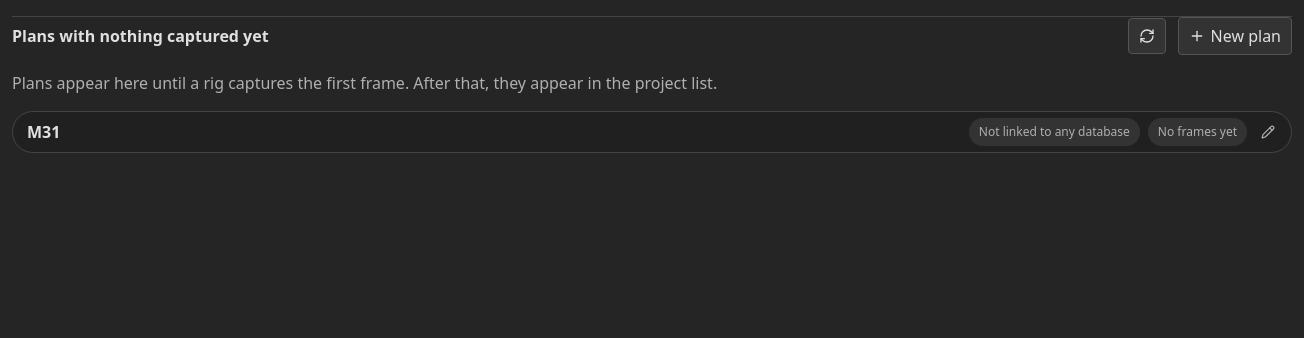
Test: The Library's plans with nothing captured yet › keeps a stale rename draft until canceled and reloads the current revision
This screenshot has width=1304, height=338.
Click the button named "Rename M31" at [1268, 132], box [1255, 119, 1281, 145]
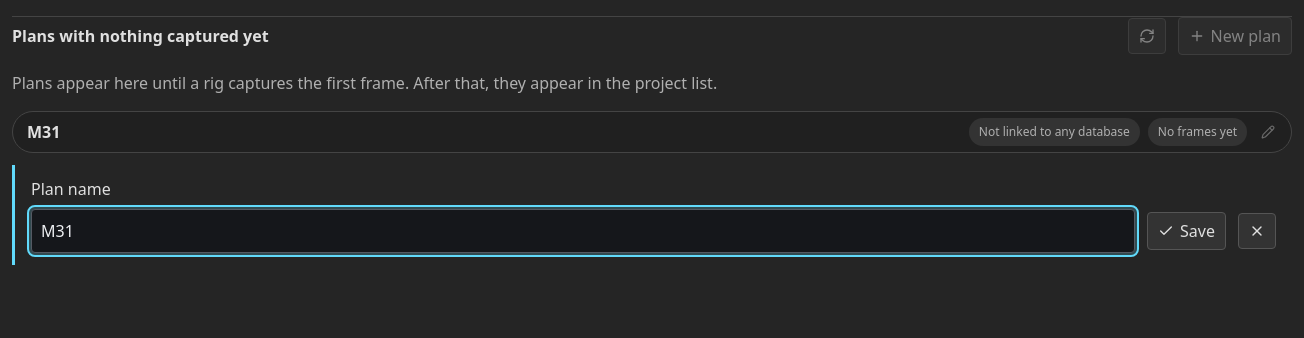
Replace the text in the field labelled "Plan name" with "Andromeda" at [583, 231], box [31, 209, 1135, 253]
Click the button "Save" at [1187, 231], box [1147, 212, 1226, 250]
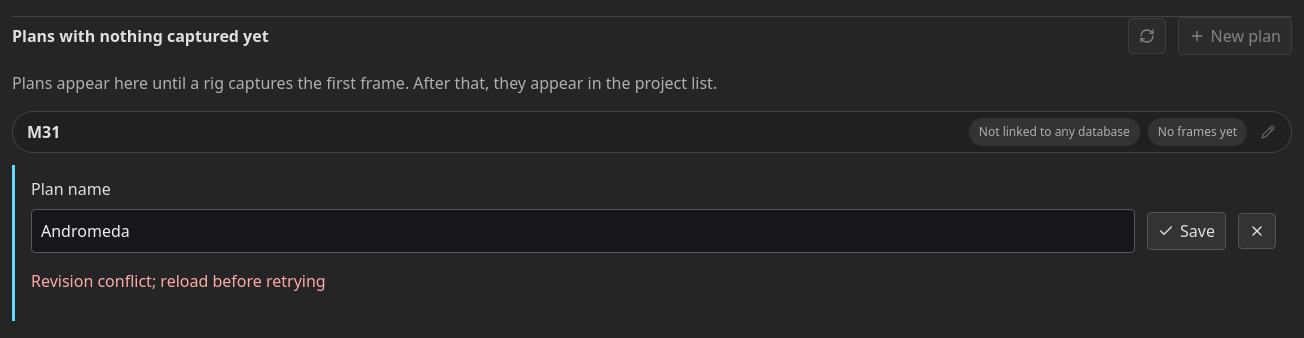
Expected: the message shows "Revision conflict", [31, 270, 326, 292]
Click the button named "Cancel" at [1257, 231], box [1238, 213, 1276, 249]
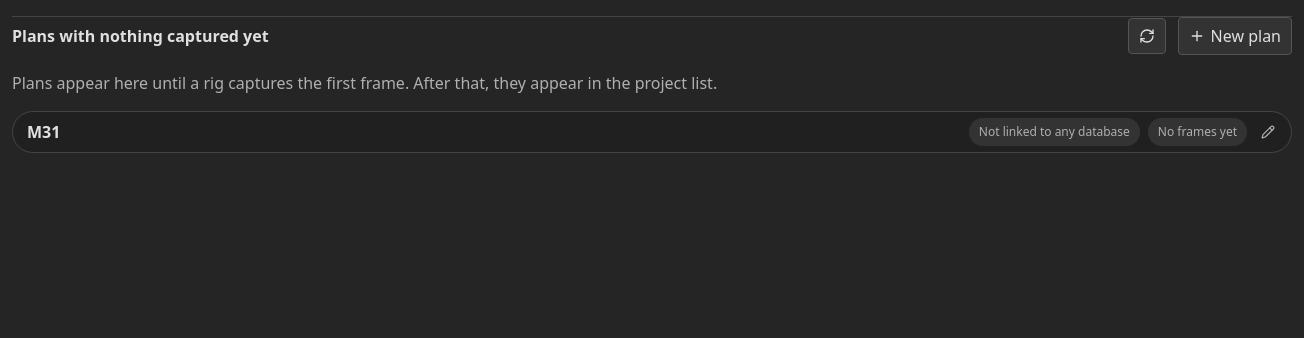
Click the button named "Refresh plans" at [1147, 36], box [1128, 18, 1166, 54]
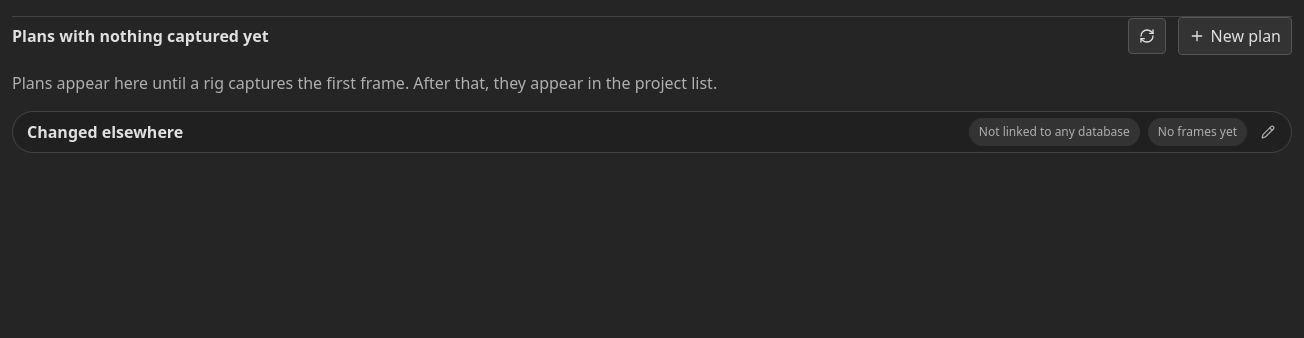
Click the button named "Rename Changed elsewhere" at [1268, 132], box [1255, 119, 1281, 145]
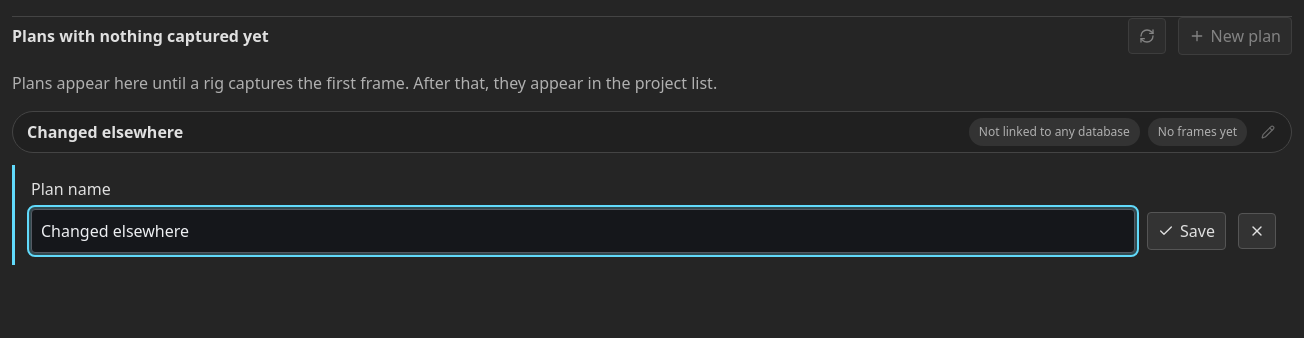
Replace the text in the field labelled "Plan name" with "Andromeda" at [583, 231], box [31, 209, 1135, 253]
Click the button "Save" at [1187, 231], box [1147, 212, 1226, 250]
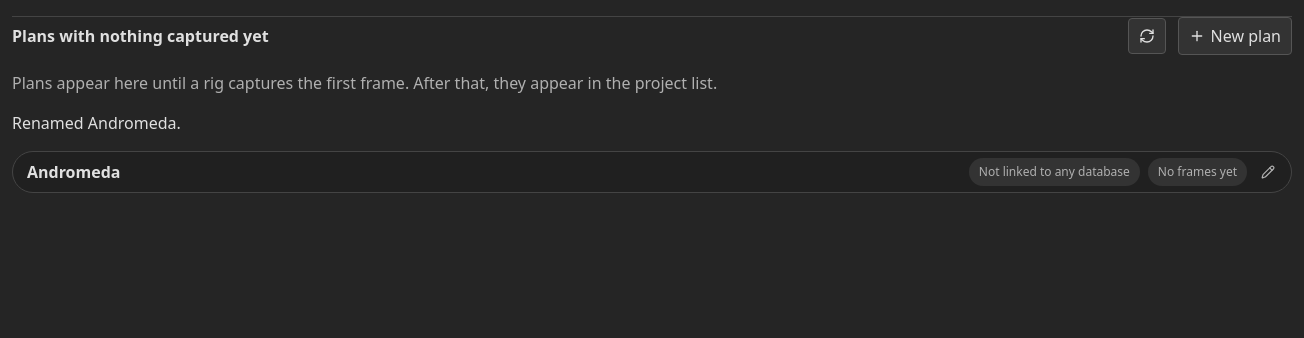
Expected: the text "Renamed Andromeda." is shown, [12, 112, 181, 134]
